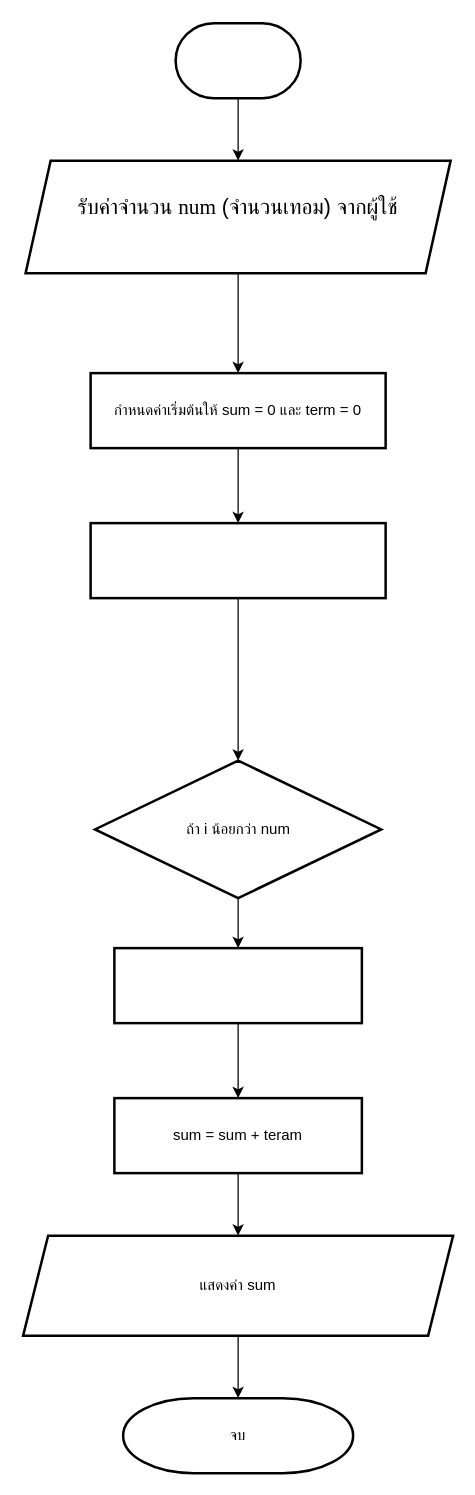
The diagram is 475 pixels wide and 1495 high, and some of its shapes have lost their labels. Each missing label, with the centre of its shape:
i = 1: pixel 237 560
คำนวณค่า term = term * 10 + 9: pixel 237 985
เริ่ม: pixel 237 60
